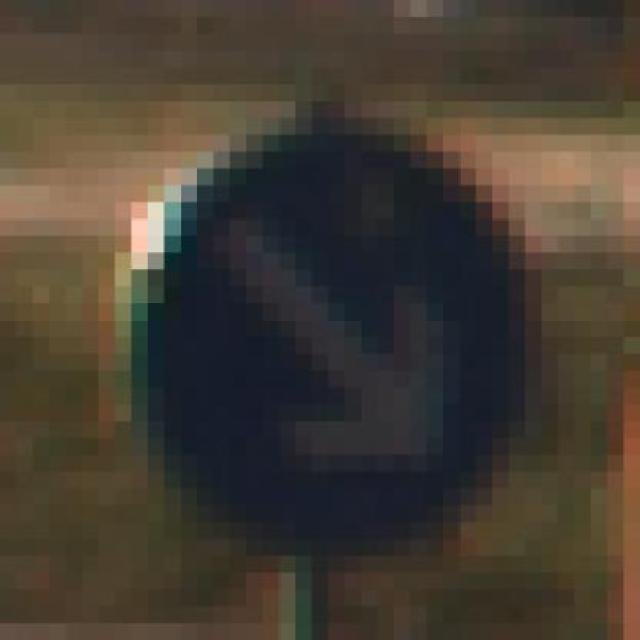Keep-Right: (131, 101, 558, 556)
